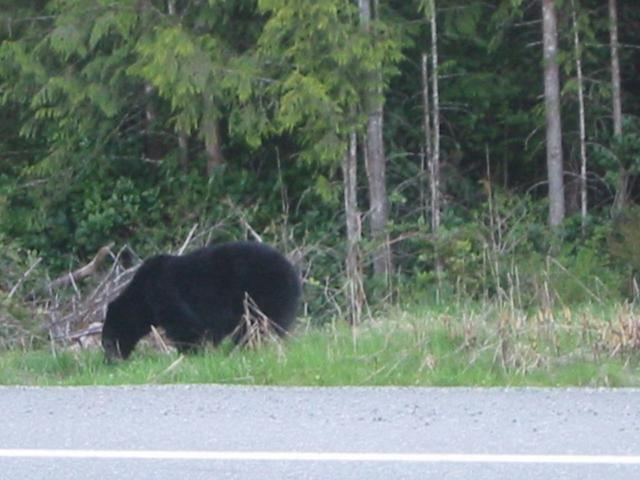Bear: (98, 249, 303, 356)
